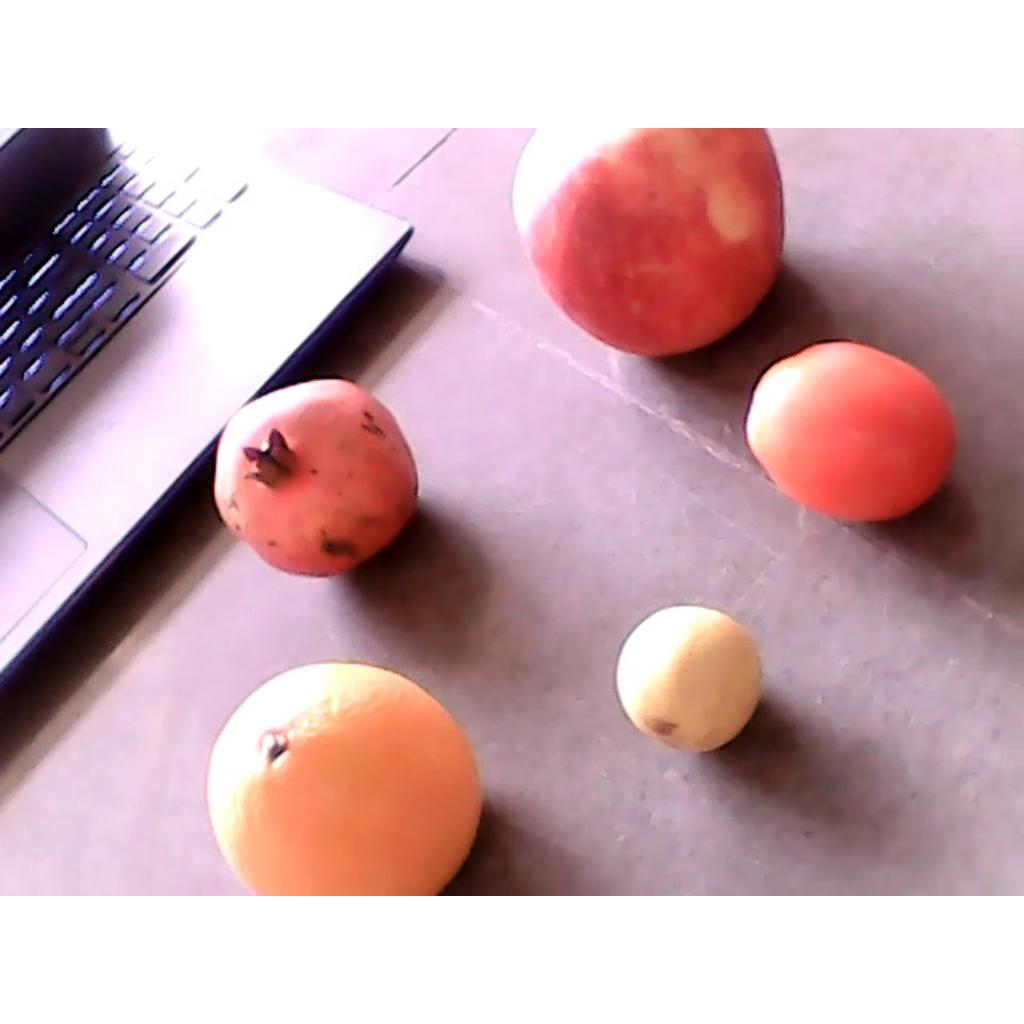apple: (517, 129, 782, 357)
lemon: (612, 602, 766, 752)
orange: (204, 664, 483, 894)
pomegranate: (215, 378, 419, 577)
tomato: (749, 342, 958, 520)
